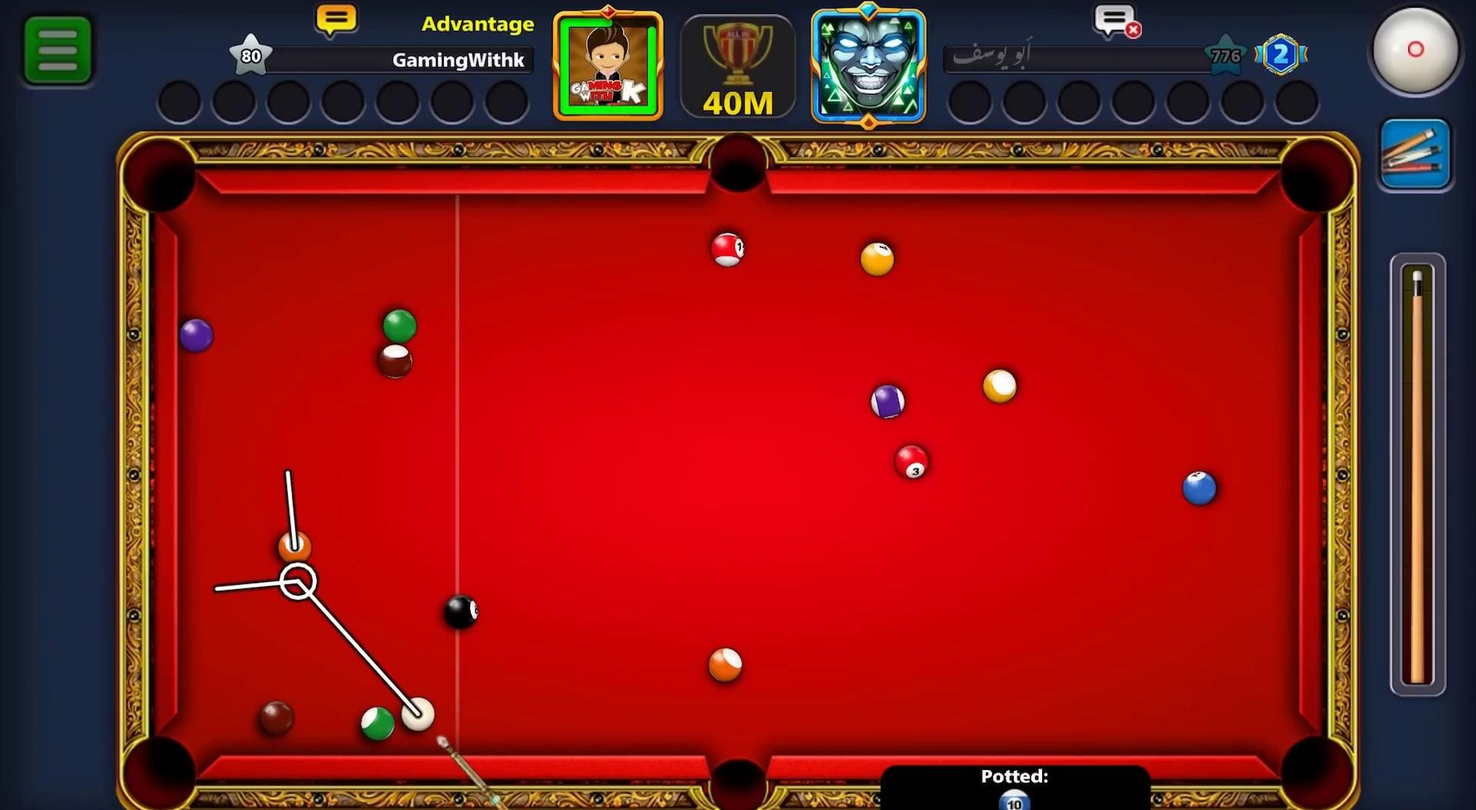Ball: (702, 221, 754, 279), (1179, 459, 1223, 522), (858, 226, 901, 286), (171, 313, 220, 359), (372, 338, 416, 386), (382, 301, 421, 348), (705, 645, 747, 688), (356, 701, 398, 744), (867, 382, 910, 423), (896, 437, 930, 484), (274, 531, 316, 566), (258, 699, 296, 737), (443, 593, 480, 630), (982, 367, 1018, 404), (999, 785, 1031, 810)
Force: (1391, 249, 1449, 700)
Guideline: (210, 573, 429, 726), (278, 466, 302, 547), (278, 563, 319, 605)
Hole: (1263, 722, 1377, 810), (691, 734, 791, 810), (1277, 137, 1353, 215), (121, 137, 198, 211), (123, 733, 201, 806), (708, 133, 768, 191)
Play_Area: (180, 193, 1301, 756)
Spin: (1362, 0, 1476, 105)
White: (396, 692, 442, 733)
